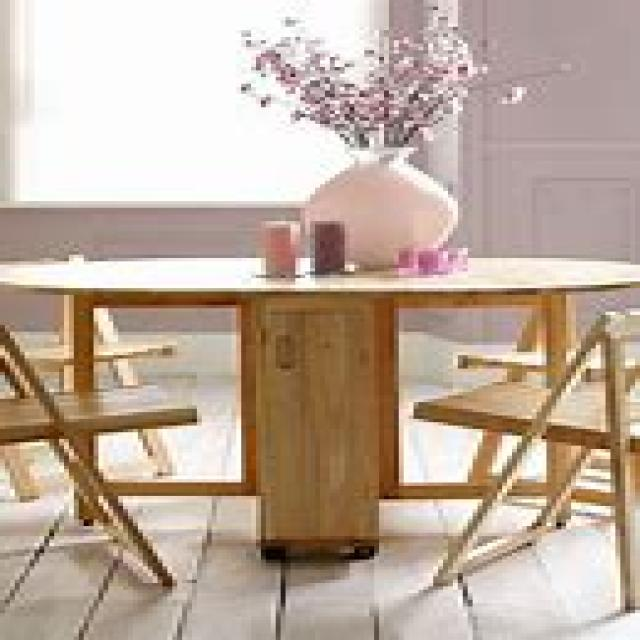chair: (409, 305, 635, 610), (0, 318, 197, 600)
table: (0, 251, 635, 560)
